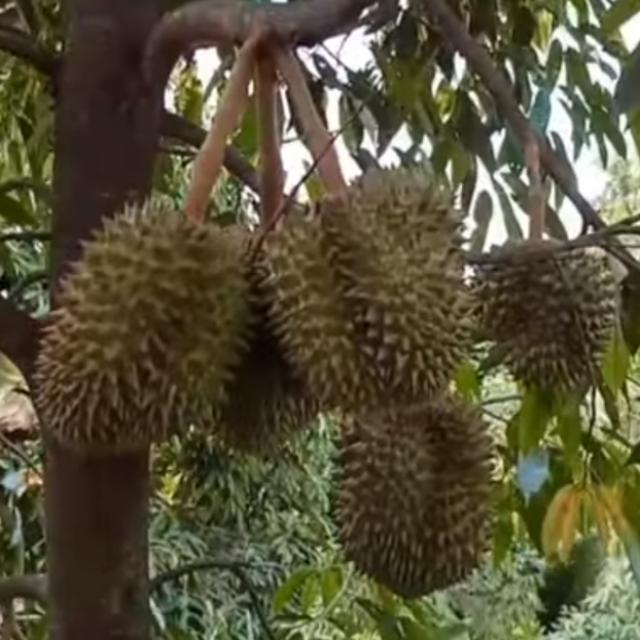mature: (32, 185, 262, 450), (260, 168, 472, 411), (333, 382, 497, 600), (472, 234, 618, 390)
